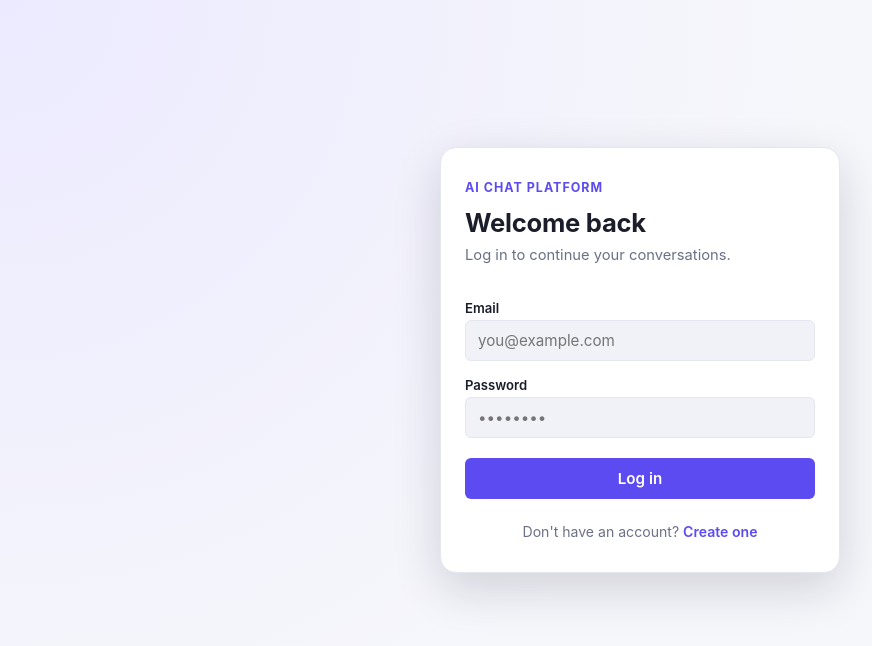
LoginPage › requires a password to be entered
Type "user@example.com" into the field labelled "Email" at (640, 340), box [465,320,815,361]
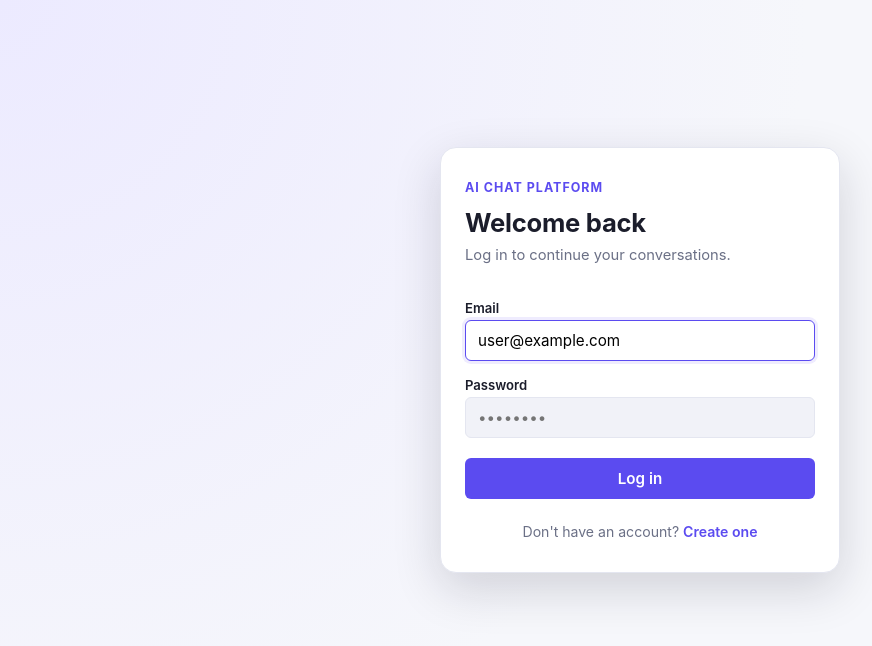
Click the button "Log in" at (640, 478), box [465,458,815,499]
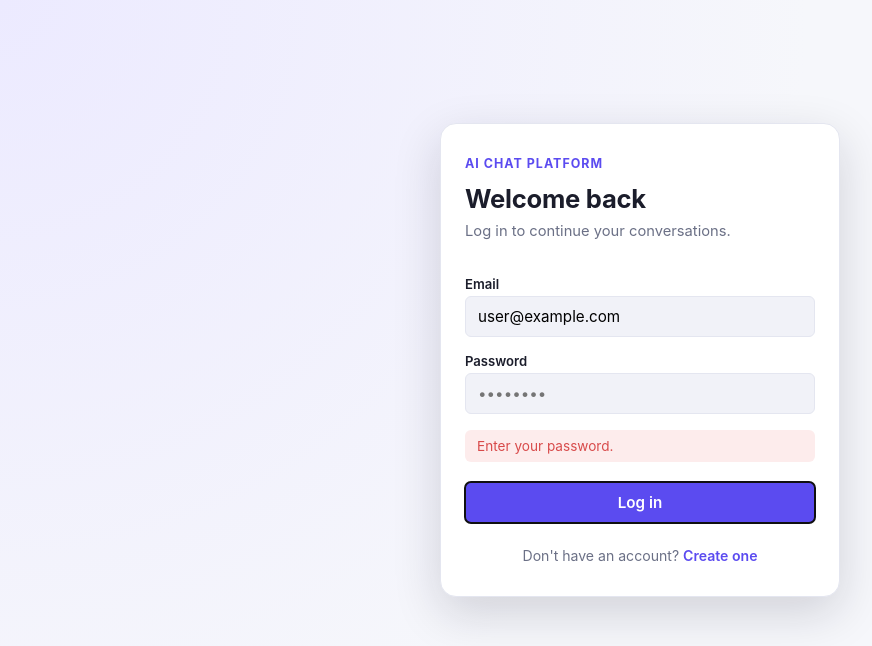
Now the message reads "Enter your password.", box [477,438,614,454]
